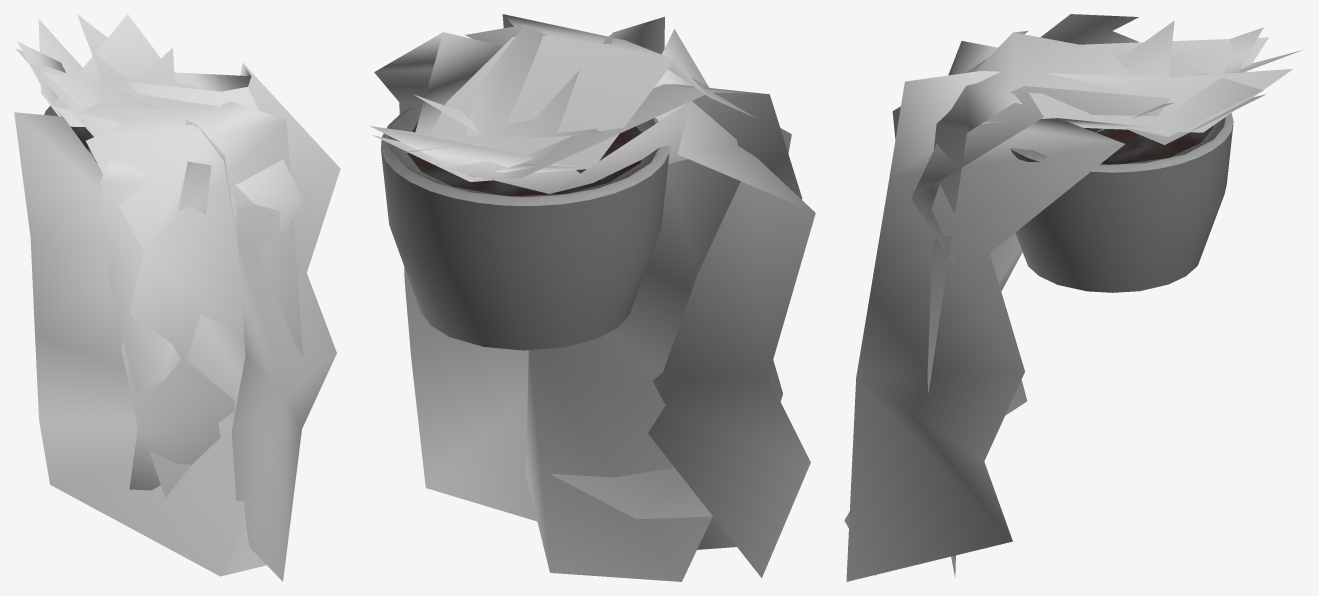
Rendered from vine 2.fbx.
3 views of the same model, side by side, from view 1: azimuth 30°, elevation 25°; view 2: azimuth 150°, elevation 25°; view 3: azimuth 270°, elevation 25° (orthographic). The views are drawn at different scales.
Parts seen in each view (by area): view 1: Plane.017; view 2: Plane.017, Cylinder.021; view 3: Plane.017, Cylinder.021.
Boxes of the visible parts, box(x1,y1,x2,y2) form: Plane.017: box(14, 14, 340, 581); Plane.017: box(370, 14, 815, 581); Cylinder.021: box(381, 101, 669, 350); Plane.017: box(844, 14, 1302, 581); Cylinder.021: box(1010, 113, 1233, 292).
Size of the model in its own units: 71.53 by 97.18 by 80.31.
2 materials, 1 textured.
